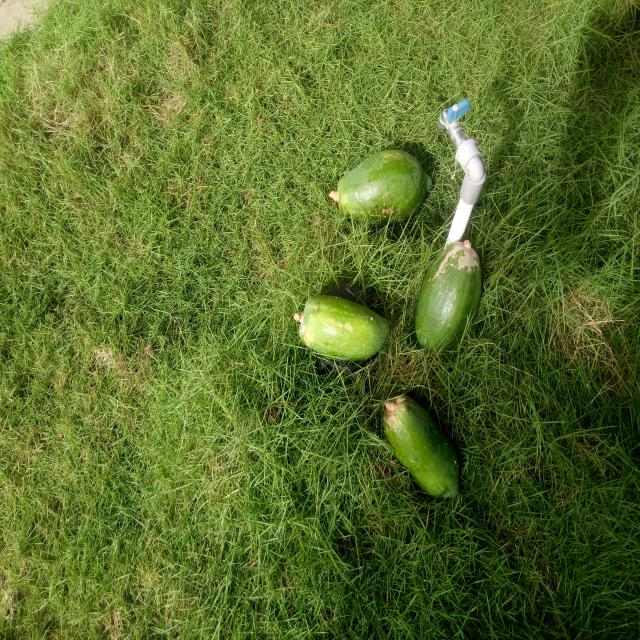Pepaya unrippen: (410, 245, 486, 371), (374, 393, 460, 501), (328, 138, 427, 220), (291, 291, 392, 361)
